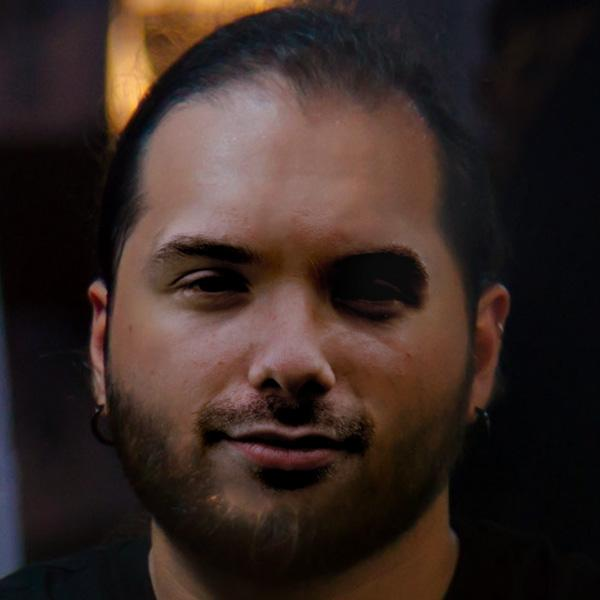Eyes: (158, 259, 260, 315), (325, 263, 415, 325)
